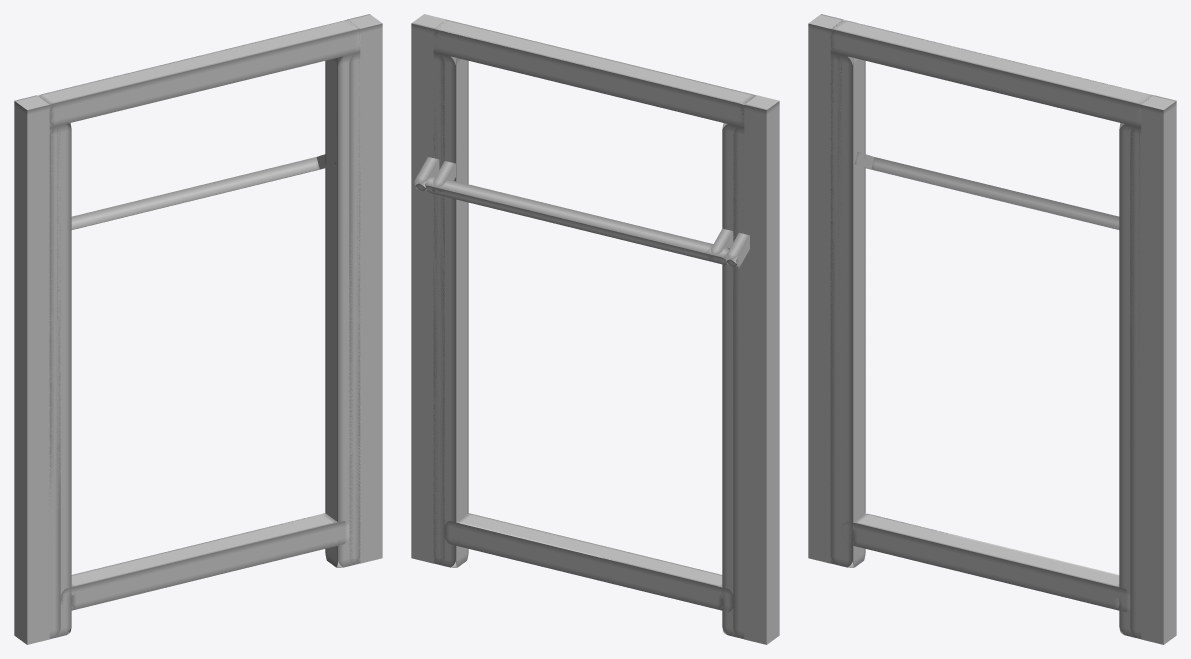
The model's file is shlowduanmen.obj.
3 renders of one model, left to right at view 1: azimuth 30°, elevation 25°; view 2: azimuth 150°, elevation 25°; view 3: azimuth 330°, elevation 25°, orthographic.
Parts seen in each view (by area): view 1: door_right, door_left, main_right, main_left; view 2: door_right, door_left, main_right, main_left; view 3: door_right, door_left, main_left, main_right.
Boxes of the visible parts, bbox=[...] form: door_right: bbox=[38, 19, 360, 637]; door_left: bbox=[37, 20, 360, 638]; main_right: bbox=[14, 95, 49, 644]; main_left: bbox=[347, 14, 382, 563]; door_right: bbox=[414, 19, 755, 637]; door_left: bbox=[432, 21, 756, 638]; main_right: bbox=[744, 95, 779, 644]; main_left: bbox=[411, 14, 446, 563]; door_right: bbox=[830, 20, 1153, 638]; door_left: bbox=[830, 19, 1151, 637]; main_left: bbox=[1141, 95, 1176, 644]; main_right: bbox=[808, 14, 843, 563].
Bounding box in the file's own units: 1 × 1.44 × 0.1326.
